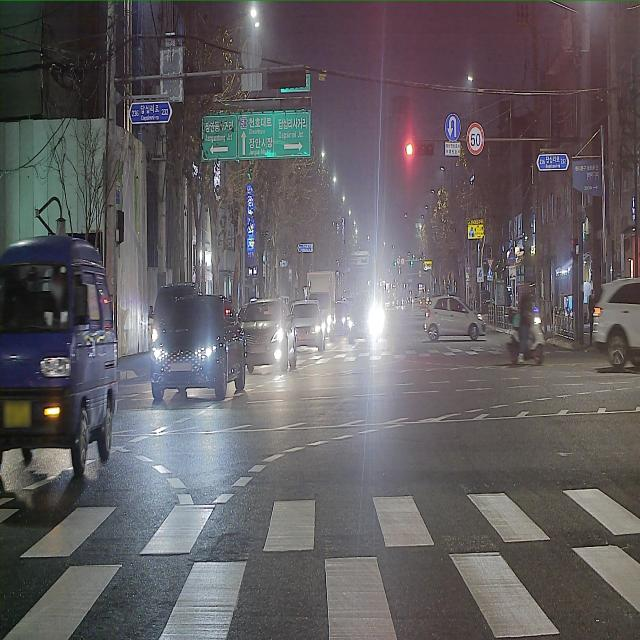Red Light: (405, 141, 414, 157)
